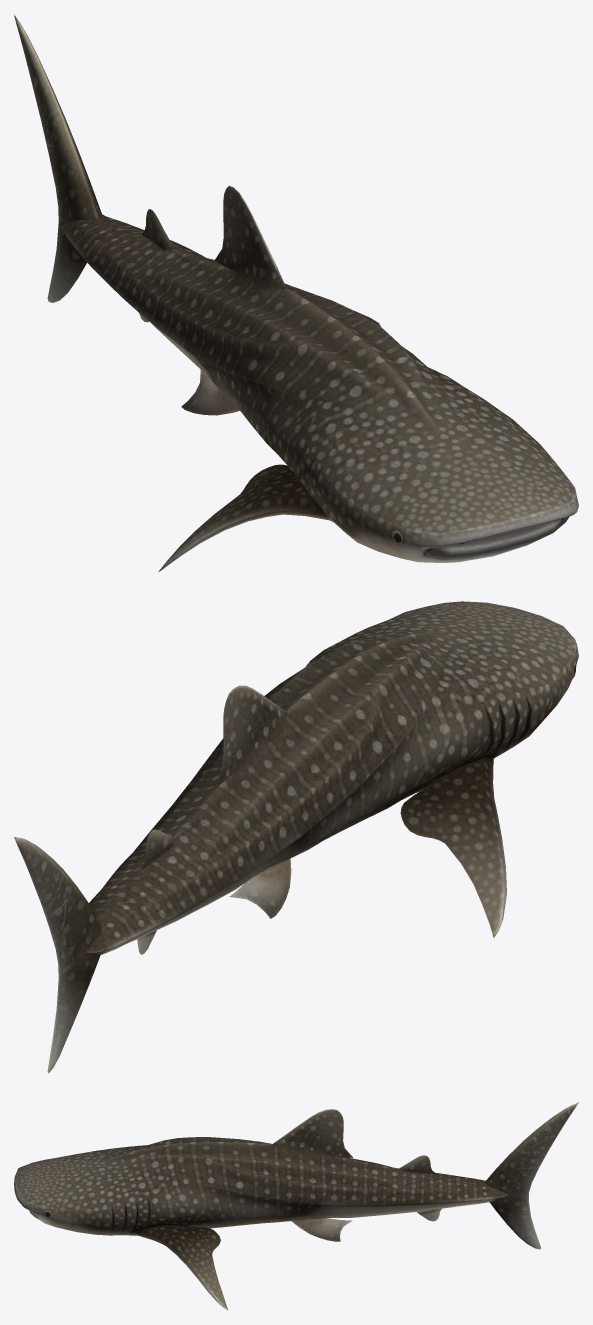
Rendered from WhaleShark.gltf.
3 renders of one model, top to bottom at view 1: azimuth 30°, elevation 25°; view 2: azimuth 150°, elevation 25°; view 3: azimuth 270°, elevation 25°, orthographic. The views are drawn at different scales.
Visible parts, largest first — view 1: FishJinbeezame__mJinbeezame; view 2: FishJinbeezame__mJinbeezame; view 3: FishJinbeezame__mJinbeezame.
Part boxes in pixels (<box>): FishJinbeezame__mJinbeezame: <box>14,15,578,571</box>; FishJinbeezame__mJinbeezame: <box>14,601,578,1073</box>; FishJinbeezame__mJinbeezame: <box>14,1102,578,1310</box>.
Size of the model in its own units: 15.36 by 12.53 by 39.51.
1 material, 1 textured.
